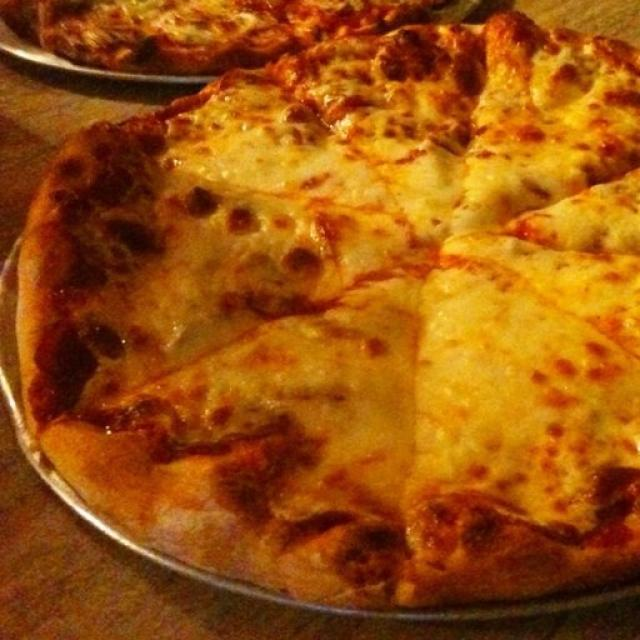Cheese: (425, 297, 549, 398), (277, 338, 400, 430), (430, 404, 530, 478), (404, 176, 494, 218), (168, 260, 210, 342), (555, 202, 630, 246), (218, 145, 294, 183), (346, 289, 410, 332), (538, 258, 601, 300), (314, 156, 372, 198), (527, 147, 578, 193), (348, 444, 403, 482), (350, 225, 393, 256), (193, 224, 224, 256), (139, 6, 170, 26)
Pizza: (17, 10, 640, 603), (2, 0, 462, 74)
